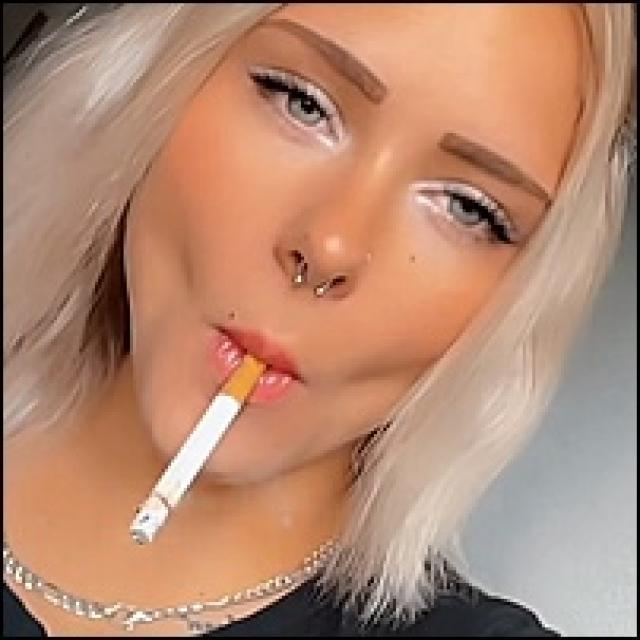rokok: (134, 357, 266, 548)
